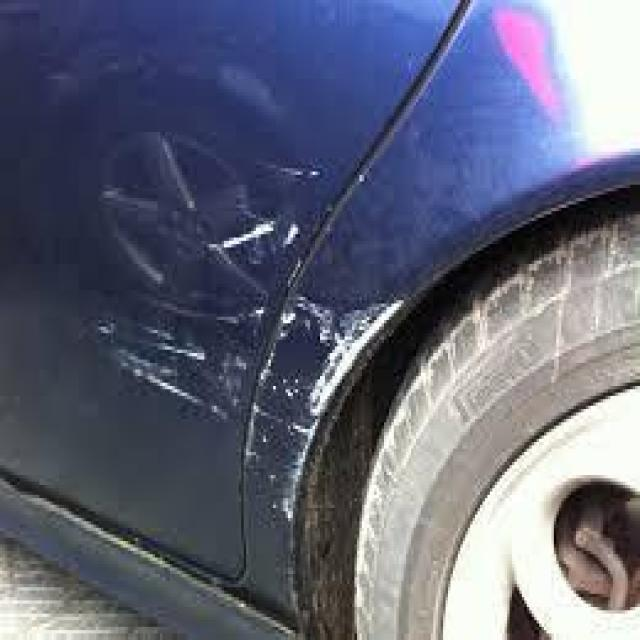damaged: (91, 138, 399, 514)
